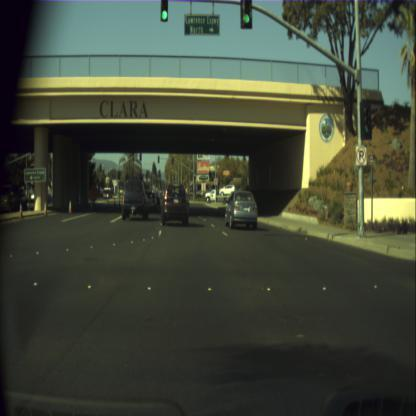Green: (360, 100, 372, 140), (239, 0, 253, 29), (159, 0, 168, 22), (208, 171, 212, 180), (194, 175, 196, 183)
off: (172, 156, 174, 165), (158, 155, 160, 162), (139, 153, 141, 160)
